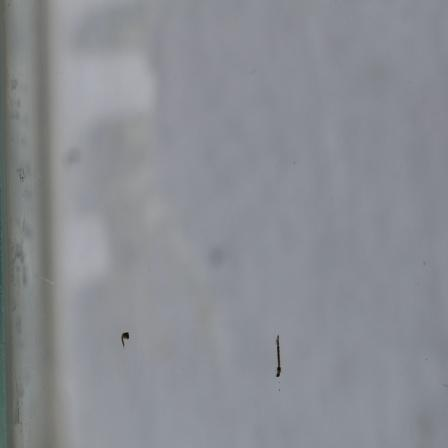Jentik-Nyamuk: (270, 332, 287, 379), (117, 328, 132, 351)
